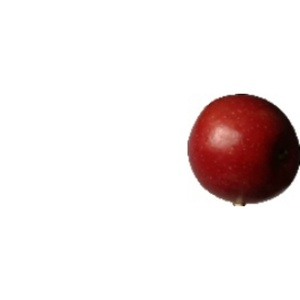maçã braeburn: (186, 92, 300, 203)
